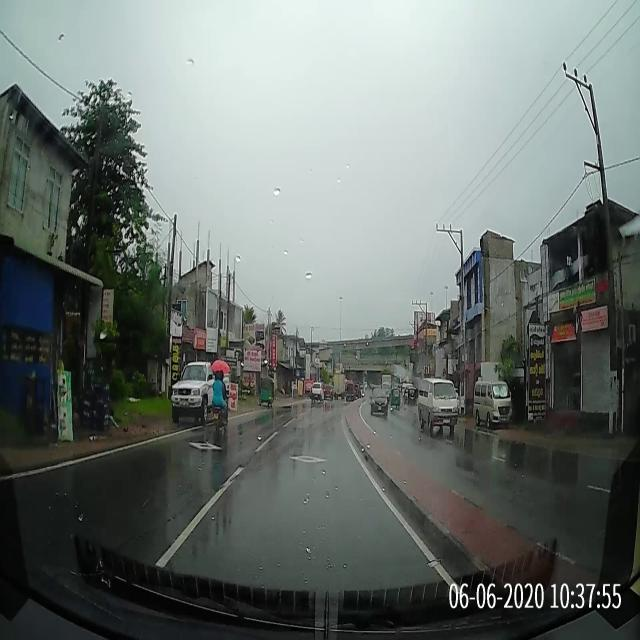diamond: (237, 443, 370, 472)
